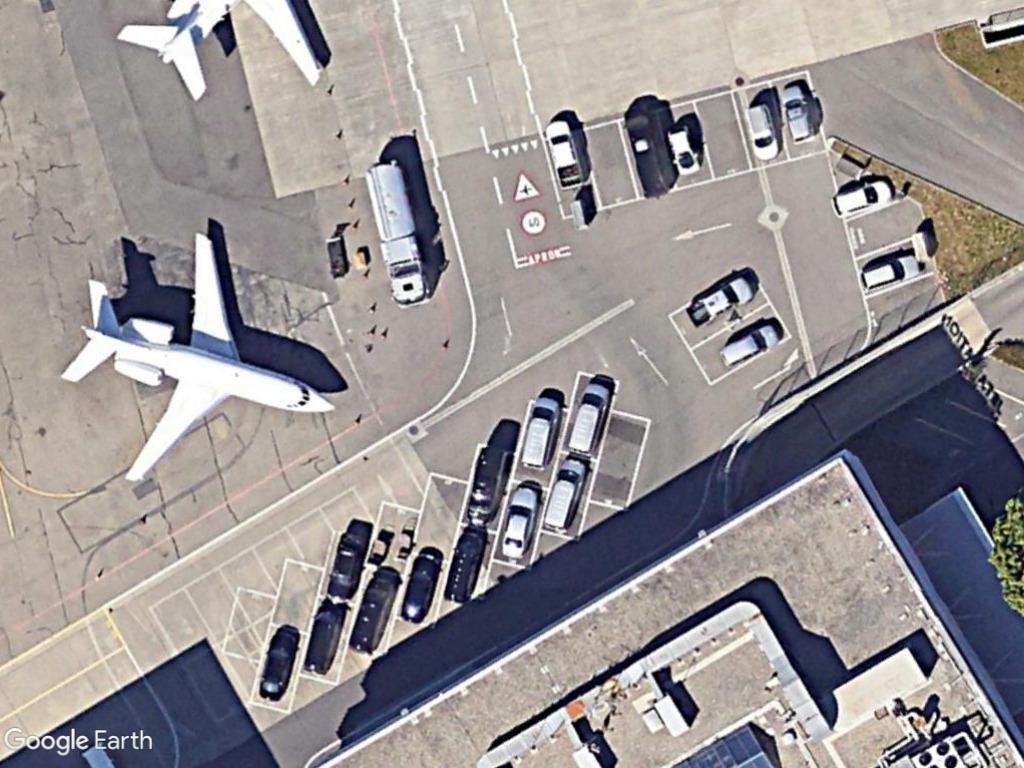car: (828, 175, 897, 221), (499, 483, 539, 561), (716, 323, 780, 371), (858, 252, 923, 296), (701, 274, 754, 323)
chartered: (58, 234, 336, 484)
others: (363, 161, 434, 310), (542, 119, 584, 192), (779, 83, 816, 144)
van: (565, 377, 611, 457), (519, 392, 561, 472), (543, 454, 586, 532), (740, 101, 781, 163)
